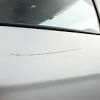scratch: (8, 43, 82, 59)
